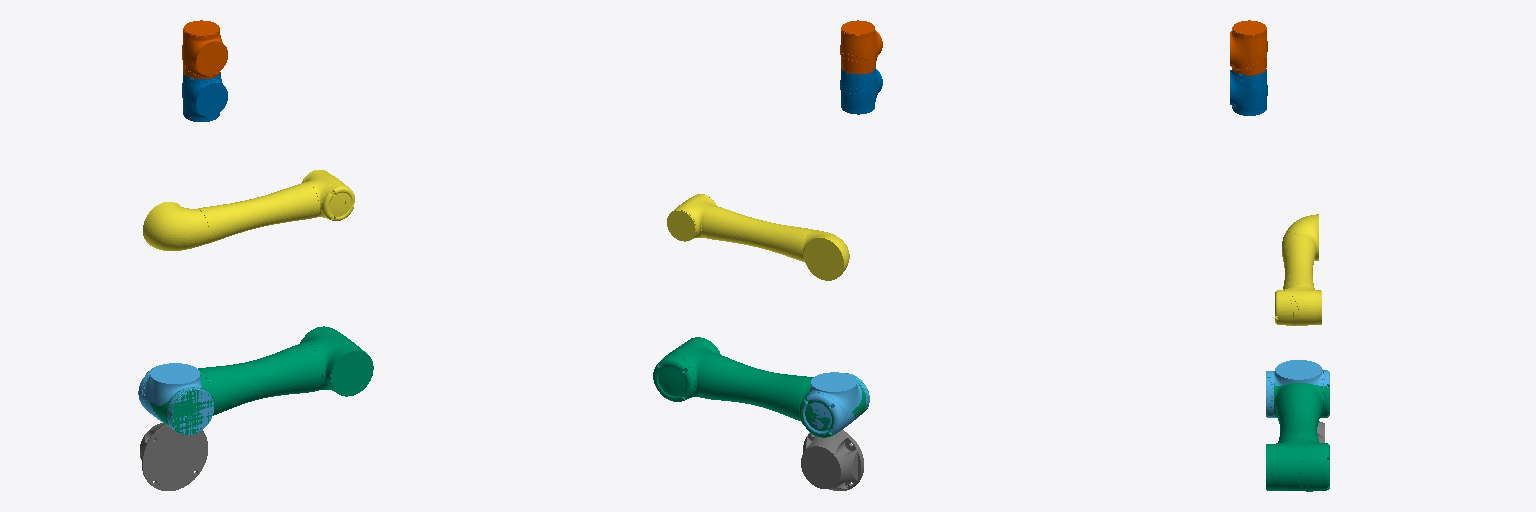
URDF robot description (tm5_900_dh):
<robot name="tm5_900_dh">
    <link name="base_link">
        <visual>
            <geometry>
                <mesh filename="package://tm5_description/meshes/tm5_900_mdh/visual/tm5_base.stl" />
            </geometry>
            <material name="LightGrey">
                <color rgba="0.5 0.5 0.5 1.0" />
            </material>
        </visual>
        <collision>
            <geometry>
                <mesh filename="package://tm5_description/meshes/tm5_900_mdh/collision/tm5_base_c.stl" />
            </geometry>
        </collision>
    </link>
    <joint name="shoulder_1_joint" type="revolute">
        <parent link="base_link" />
        <child link="shoulder_1_link" />
        <origin rpy="0.000000 -0.000000 0.000000" xyz="0.000000 0.000000 0.145200" />
        <axis xyz="0 0 1" />
        <limit effort="100.0" lower="-4.7124" upper="4.7124" velocity="1.0" />
    </joint>
    <link name="shoulder_1_link">
        <visual>
            <geometry>
                <mesh filename="package://tm5_description/meshes/tm5_900_mdh/visual/tm_400w_01.stl" />
            </geometry>
        </visual>
        <collision>
            <geometry>
                <mesh filename="package://tm5_description/meshes/tm5_900_mdh/collision/tm_400w_01_c.stl" />
            </geometry>
        </collision>
    </link>
    <joint name="shoulder_2_joint" type="revolute">
        <parent link="shoulder_1_link" />
        <child link="arm_1_link" />
        <origin rpy="-1.570796 -1.570796 0.000000" xyz="0.000000 0.000000 0.000000" />
        <axis xyz="0 0 1" />
        <limit effort="100.0" lower="-3.1416" upper="3.1416" velocity="1.0" />
    </joint>
    <link name="arm_1_link">
        <visual>
            <geometry>
                <mesh filename="package://tm5_description/meshes/tm5_900_mdh/visual/tm5_900_arm1.stl" />
            </geometry>
        </visual>
        <collision>
            <geometry>
                <mesh filename="package://tm5_description/meshes/tm5_900_mdh/collision/tm5_900_arm1_c.stl" />
            </geometry>
        </collision>
    </link>
    <joint name="elbow_joint" type="revolute">
        <parent link="arm_1_link" />
        <child link="arm_2_link" />
        <origin rpy="0.000000 -0.000000 0.000000" xyz="0.429000 0.000000 0.000000" />
        <axis xyz="0 0 1" />
        <limit effort="100.0" lower="-2.7576" upper="2.7576" velocity="1.0" />
    </joint>
    <link name="arm_2_link">
        <visual>
            <geometry>
                <mesh filename="package://tm5_description/meshes/tm5_900_mdh/visual/tm5_900_arm2.stl" />
            </geometry>
        </visual>
        <collision>
            <geometry>
                <mesh filename="package://tm5_description/meshes/tm5_900_mdh/collision/tm5_900_arm2_c.stl" />
            </geometry>
        </collision>
    </link>
    <joint name="wrist_1_joint" type="revolute">
        <parent link="arm_2_link" />
        <child link="wrist_1_link" />
        <origin rpy="0.000000 -0.000000 1.570796" xyz="0.411500 0.000000 -0.122300" />
        <axis xyz="0 0 1" />
        <limit effort="10.0" lower="-3.1416" upper="3.1416" velocity="1.0" />
    </joint>
    <link name="wrist_1_link">
        <visual>
            <geometry>
                <mesh filename="package://tm5_description/meshes/tm5_900_mdh/visual/tm_100w_01.stl" />
            </geometry>
        </visual>
        <collision>
            <geometry>
                <mesh filename="package://tm5_description/meshes/tm5_900_mdh/collision/tm_100w_01_c.stl" />
            </geometry>
        </collision>
    </link>
    <joint name="wrist_2_joint" type="revolute">
        <parent link="wrist_1_link" />
        <child link="wrist_2_link" />
        <origin rpy="1.570796 -0.000000 0.000000" xyz="0.000000 -0.106000 0.000000" />
        <axis xyz="0 0 1" />
        <limit effort="10.0" lower="-3.1416" upper="3.1416" velocity="1.0" />
    </joint>
    <link name="wrist_2_link">
        <visual>
            <geometry>
                <mesh filename="package://tm5_description/meshes/tm5_900_mdh/visual/tm_100w_02.stl" />
            </geometry>
        </visual>
        <collision>
            <geometry>
                <mesh filename="package://tm5_description/meshes/tm5_900_mdh/collision/tm_100w_02_c.stl" />
            </geometry>
        </collision>
    </link>
    <joint name="wrist_3_joint" type="revolute">
        <parent link="wrist_2_link" />
        <child link="wrist_3_link" />
        <origin rpy="1.570796 -0.000000 0.000000" xyz="0.000000 -0.113150 0.000000" />
        <axis xyz="0 0 1" />
        <limit effort="10.0" lower="-4.7124" upper="4.7124" velocity="1.0" />
    </joint>
    <link name="wrist_3_link">
        <visual>
            <geometry>
                <mesh filename="package://tm5_description/meshes/tm5_900_mdh/visual/tm_ee.stl" />
            </geometry>
        </visual>
        <collision>
            <geometry>
                <mesh filename="package://tm5_description/meshes/tm5_900_mdh/collision/tm_ee_c.stl" />
            </geometry>
        </collision>
    </link>
    <link name="base" />
    <joint name="base_fixed_joint" type="fixed">
        <parent link="base" />
        <child link="base_link" />
        <origin rpy="0.0 0.0 0.0" xyz="0.0 0.0 0.0" />
    </joint>
    <link name="tool0" />
    <joint name="tool0_fixed_joint" type="fixed">
        <parent link="wrist_3_link" />
        <child link="tool0" />
        <origin rpy="0.000000 -0.000000 0.000000" xyz="0.000000 0.000000 0.000000" />
    </joint>
</robot>

--- Render facts (derived) ---
3 views of the same robot in one strip: view 1: azimuth 30°, elevation 25°; view 2: azimuth 150°, elevation 25°; view 3: azimuth 270°, elevation 25° (orthographic).
Robot: tm5_900_dh — 9 links, 8 joints (6 revolute, 2 fixed); root link base; default pose: all joints at 0.
Visible links, largest first — view 1: arm_1_link, arm_2_link, base_link, shoulder_1_link, wrist_2_link, wrist_1_link; view 2: arm_1_link, arm_2_link, base_link, shoulder_1_link, wrist_2_link, wrist_1_link; view 3: arm_1_link, arm_2_link, wrist_2_link, shoulder_1_link, wrist_1_link.
Link boxes in pixels (box(x1,y1,x2,y2)): arm_1_link: box(150, 326, 373, 434); arm_2_link: box(143, 170, 354, 250); base_link: box(140, 423, 207, 490); shoulder_1_link: box(138, 363, 213, 434); wrist_2_link: box(182, 20, 227, 78); wrist_1_link: box(182, 72, 227, 121); arm_1_link: box(653, 337, 868, 437); arm_2_link: box(667, 194, 849, 280); base_link: box(801, 430, 863, 490); shoulder_1_link: box(802, 372, 869, 434); wrist_2_link: box(840, 20, 882, 74); wrist_1_link: box(840, 67, 882, 114); arm_1_link: box(1266, 377, 1329, 491); arm_2_link: box(1275, 214, 1321, 325); wrist_2_link: box(1230, 20, 1267, 75); shoulder_1_link: box(1266, 360, 1329, 417); wrist_1_link: box(1230, 69, 1267, 115).
Bounding box of the posed robot: 0.578 × 0.2505 × 1.24 m (x, y, z).
Meshes: 7 distinct files referenced, 6 mesh visuals loaded (6 binary STL); not drawn: 1 (reference not matched to a file when rendering).